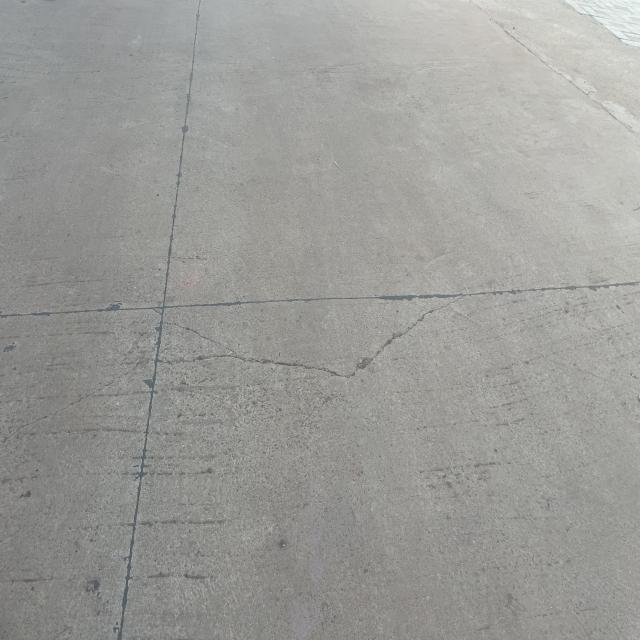D43: (86, 33, 229, 618)
